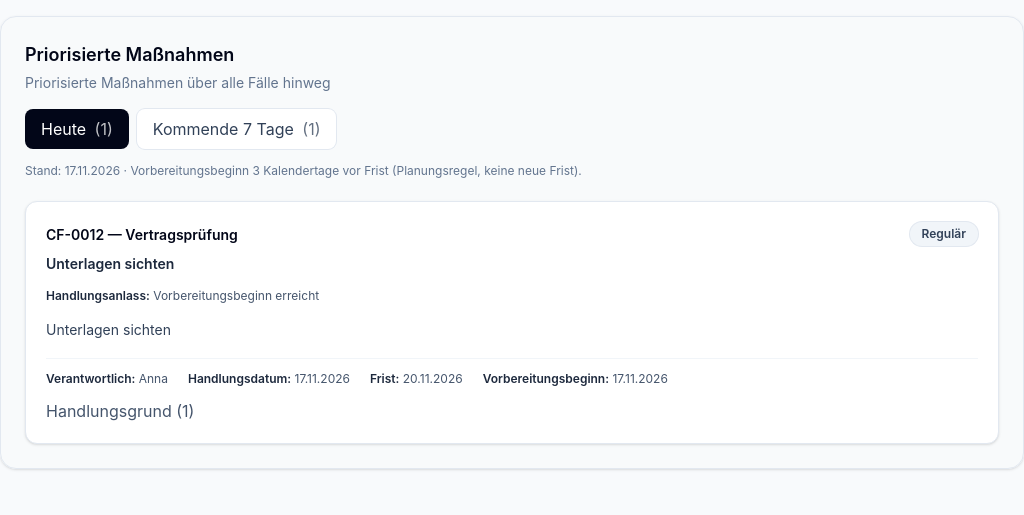
Test: dashboard worklist › shows today's work, separate dates, reasons, and case navigation
Expected: the text "Anna" is shown, [139,371,168,386]
Expected: the text "20.11.2026" is shown, [403,371,463,386]
Click the button "Handlungsgrund (1)" at point(120, 411), box [46,399,194,423]
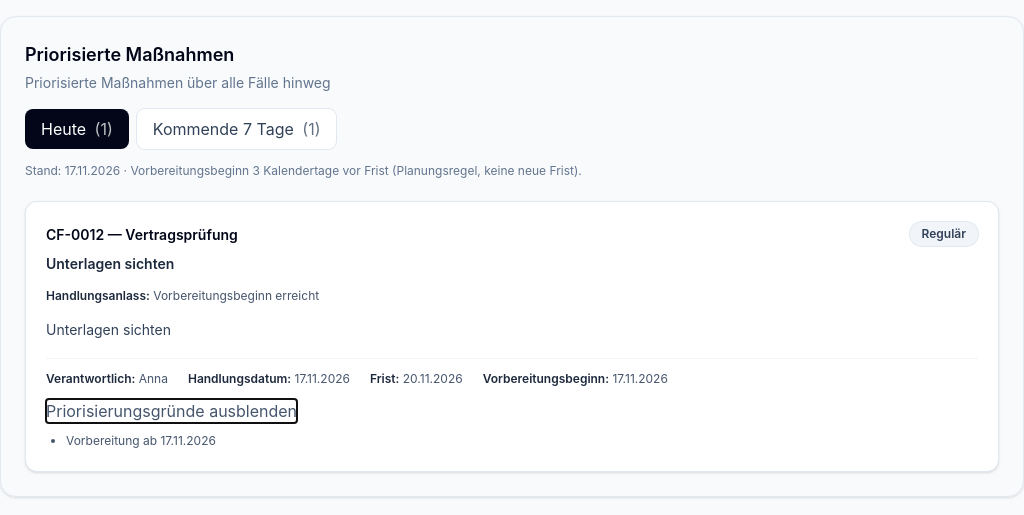
Expected: the text "Vorbereitungsbeginn:" is shown, [483,371,609,386]
Expected: the list item "Vorbereitung ab 17.11.2026" is shown, [66,433,216,448]
